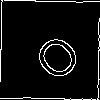O: (24, 24, 85, 85)
